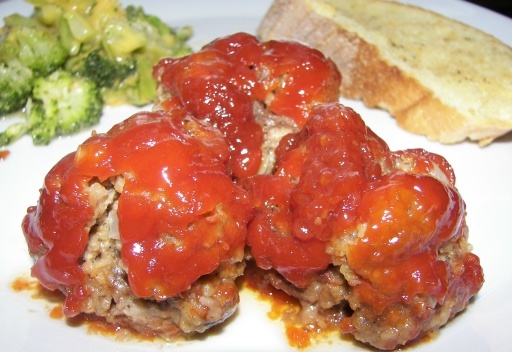background: (0, 0, 410, 193)
